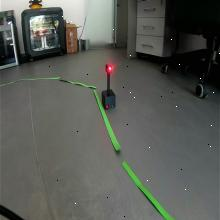red: (105, 64, 113, 75)
